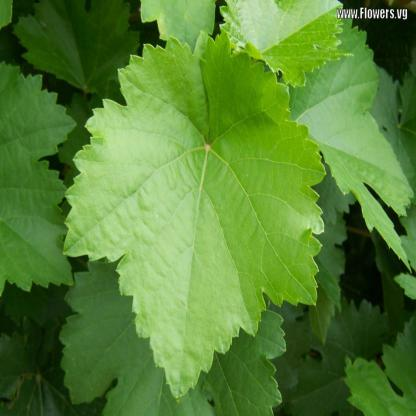grape leaf: (61, 38, 332, 406), (2, 62, 73, 305), (220, 1, 358, 88)
